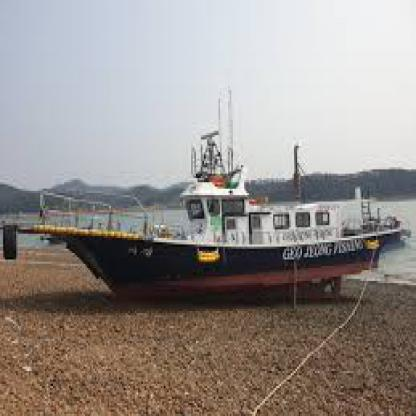fish-b: (10, 101, 400, 313)
